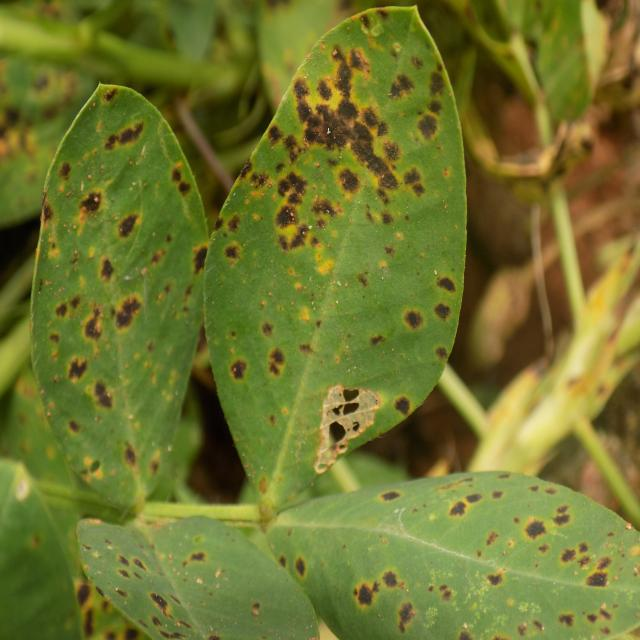Ground nut_tikka leaf spot: (200, 0, 465, 514), (27, 75, 208, 506)
